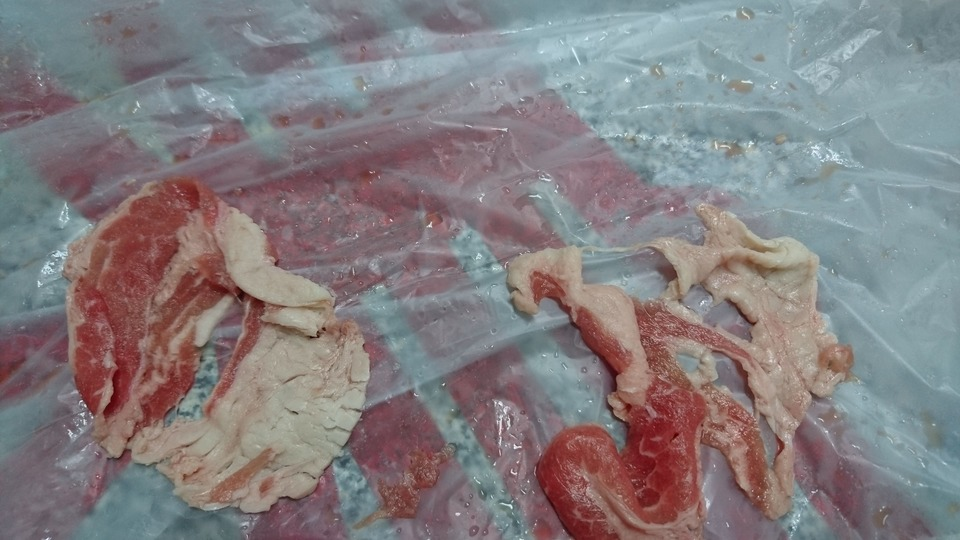restructured meat: (55, 176, 371, 512), (519, 204, 835, 540)
